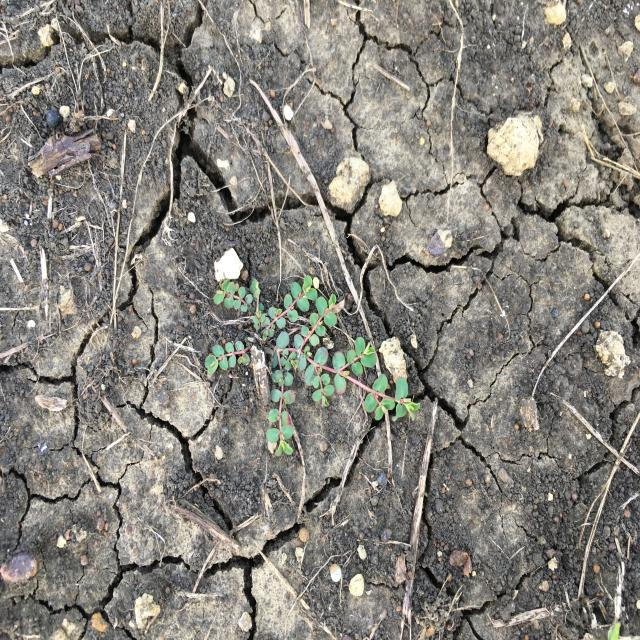SpottedSpurge: (202, 271, 423, 461)
